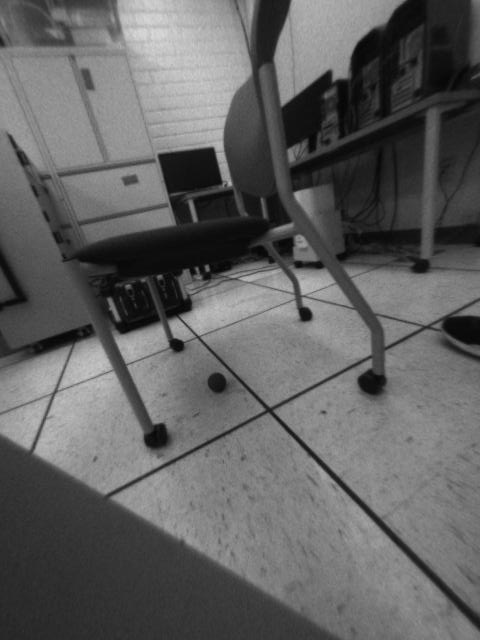dogtoy: (203, 366, 235, 396)
